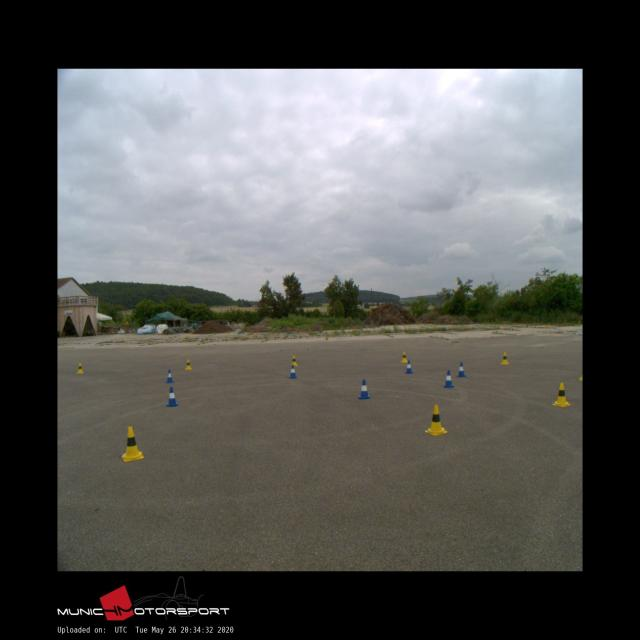blue_cone: (166, 387, 178, 406), (358, 379, 370, 398), (443, 370, 453, 387), (457, 361, 465, 376), (288, 364, 296, 378), (404, 360, 412, 373), (165, 370, 173, 382)
yellow_cone: (122, 426, 144, 461), (424, 404, 447, 434), (552, 382, 570, 406), (76, 362, 84, 373), (290, 354, 297, 366), (501, 352, 508, 364), (400, 352, 407, 362), (185, 359, 191, 369)
